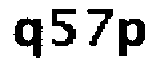5: (47, 5, 80, 52)
7: (85, 7, 114, 50)
p: (117, 17, 150, 60)
q: (12, 15, 45, 60)
